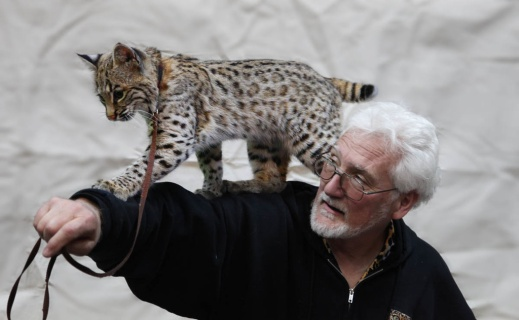Cat: (74, 38, 379, 202)
